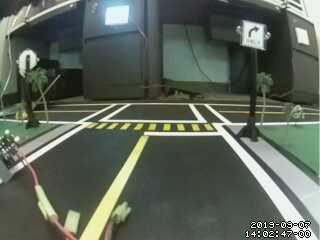Right_only_sign: (236, 16, 275, 55)
